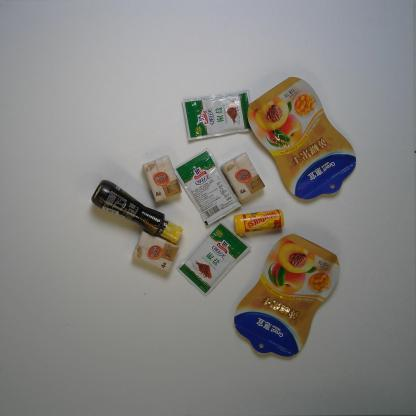Candy: (233, 208, 285, 236)
Dried Fruit: (247, 76, 357, 200), (233, 233, 341, 357)
Seasoner: (90, 179, 184, 244), (175, 220, 252, 297), (174, 147, 242, 226), (182, 89, 252, 141)
Tissue: (220, 152, 265, 201), (132, 230, 179, 273), (142, 154, 182, 202)
